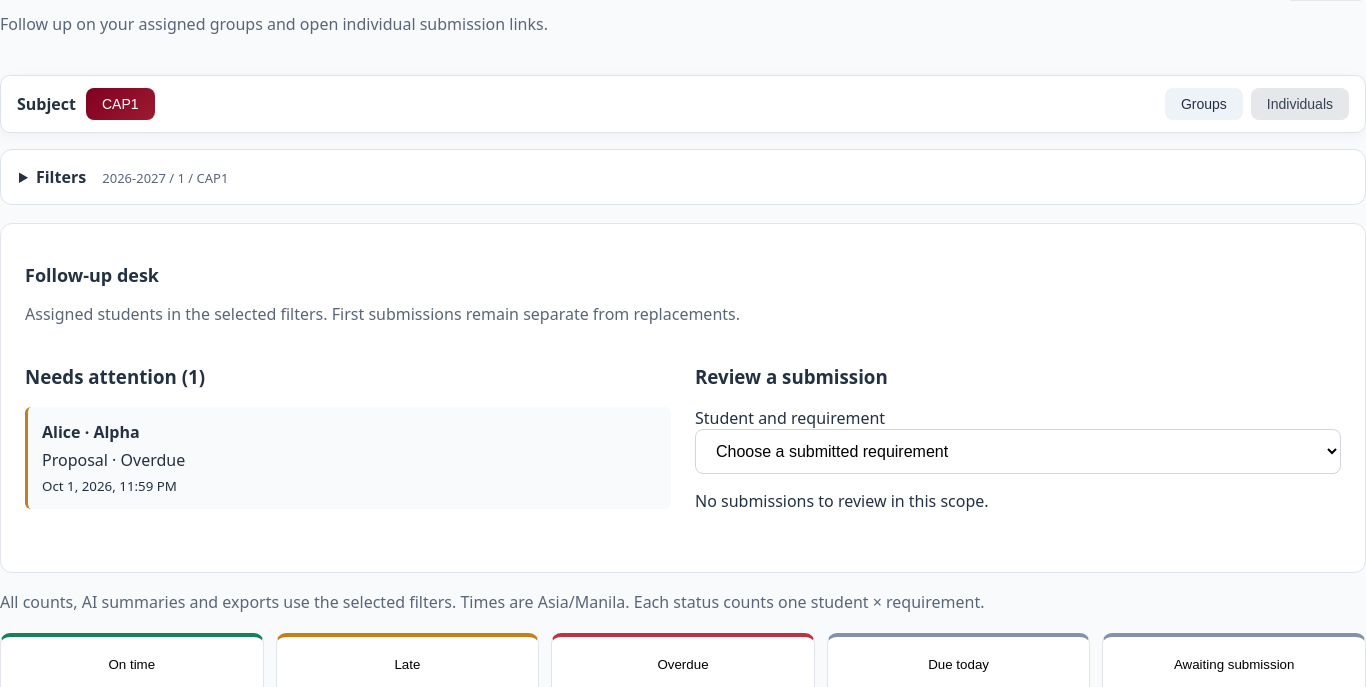
Test: group drill-down opens individual records with the same academic scope
Step 1. Click the button "Groups" → (1204, 104), box [1165,88,1243,120]
(page scrolled)
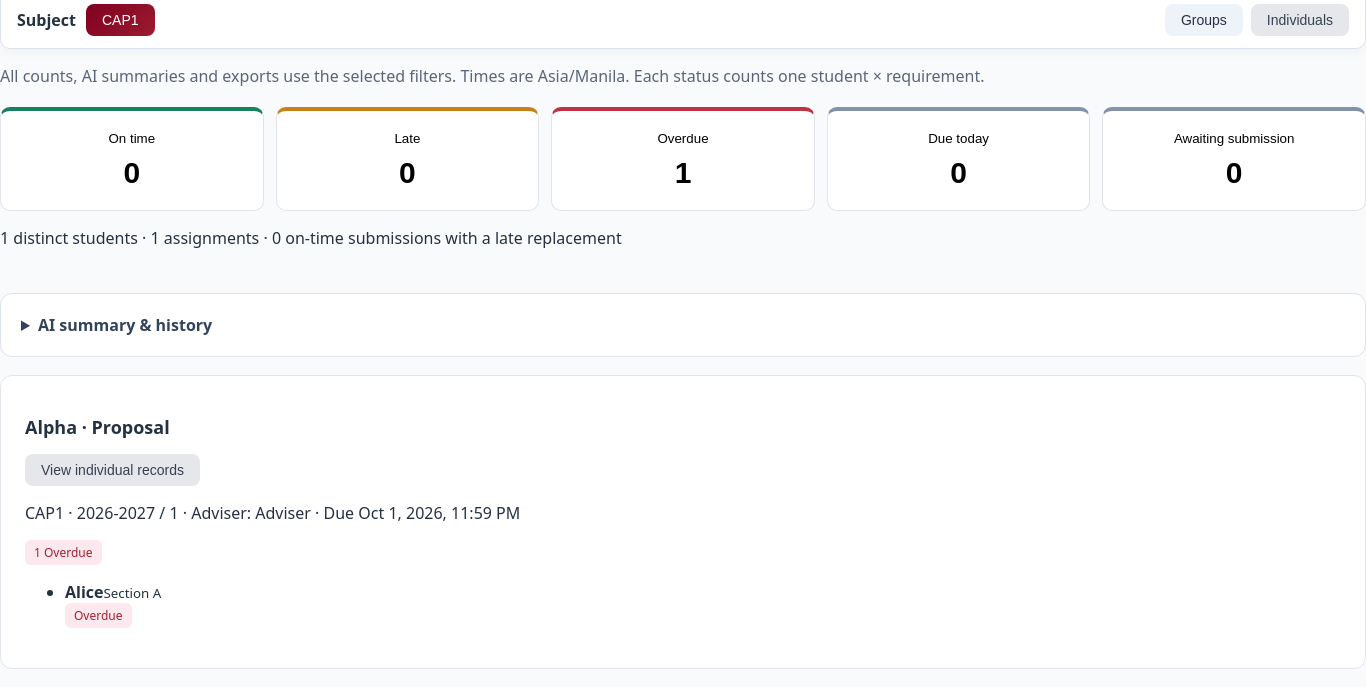
Step 2. Click the button "View individual records" → (112, 470), box [25,454,200,486]
(page scrolled)
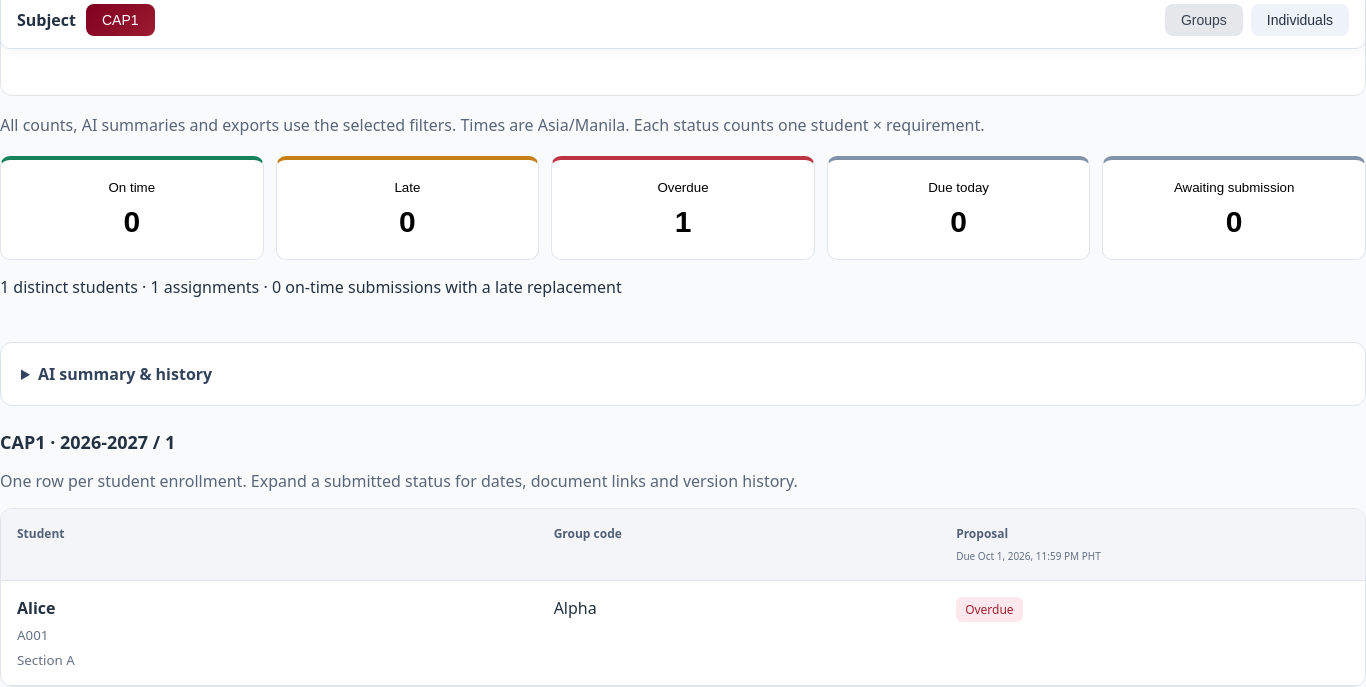
Result: the element with class "tracking-table" is shown at [0,508,1365,686]
